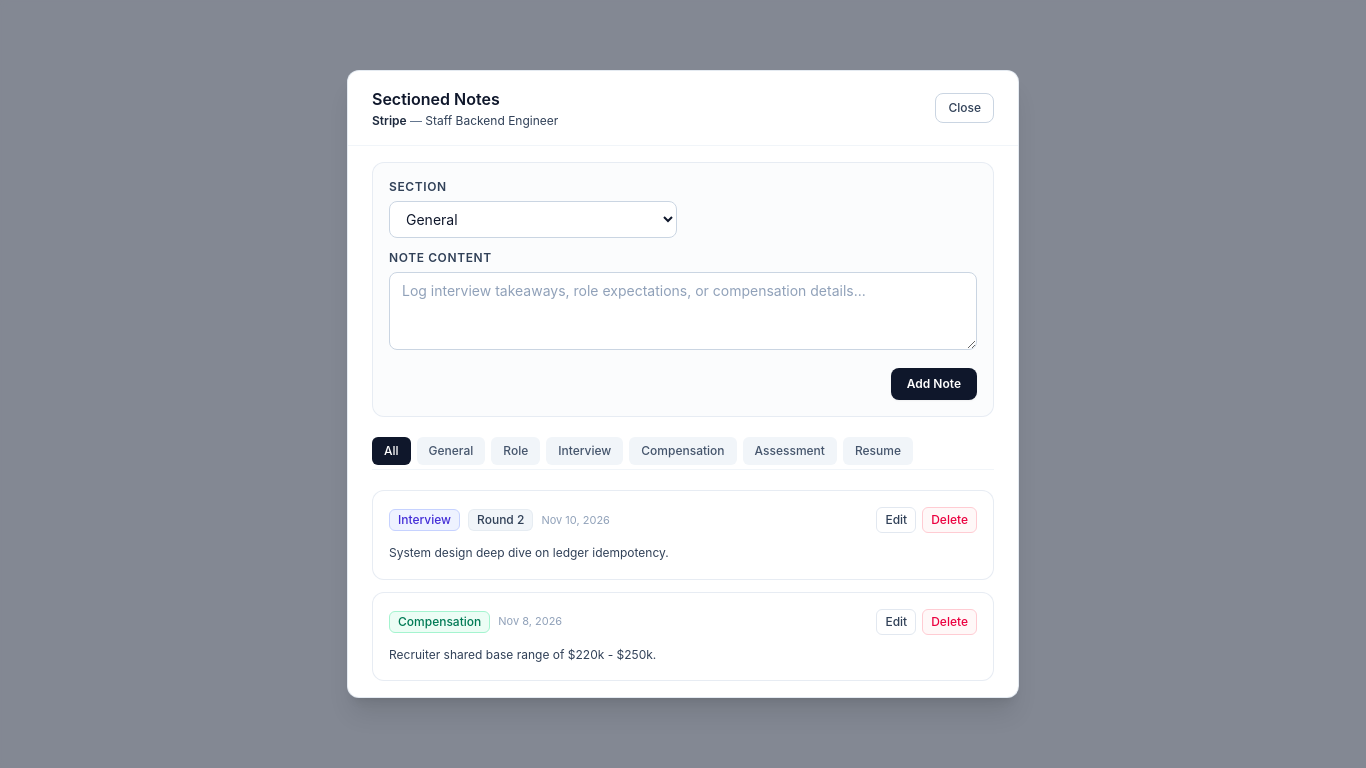
Scenario: JobNotesModal › filters displayed notes when clicking section filter tabs
The width and height of the screenshot is (1366, 768).
Check: the text "System design deep dive on ledger idempotency." is shown, box [389, 545, 669, 560]
Step 1. Click the button "Compensation" → click(683, 451), box [629, 437, 737, 465]
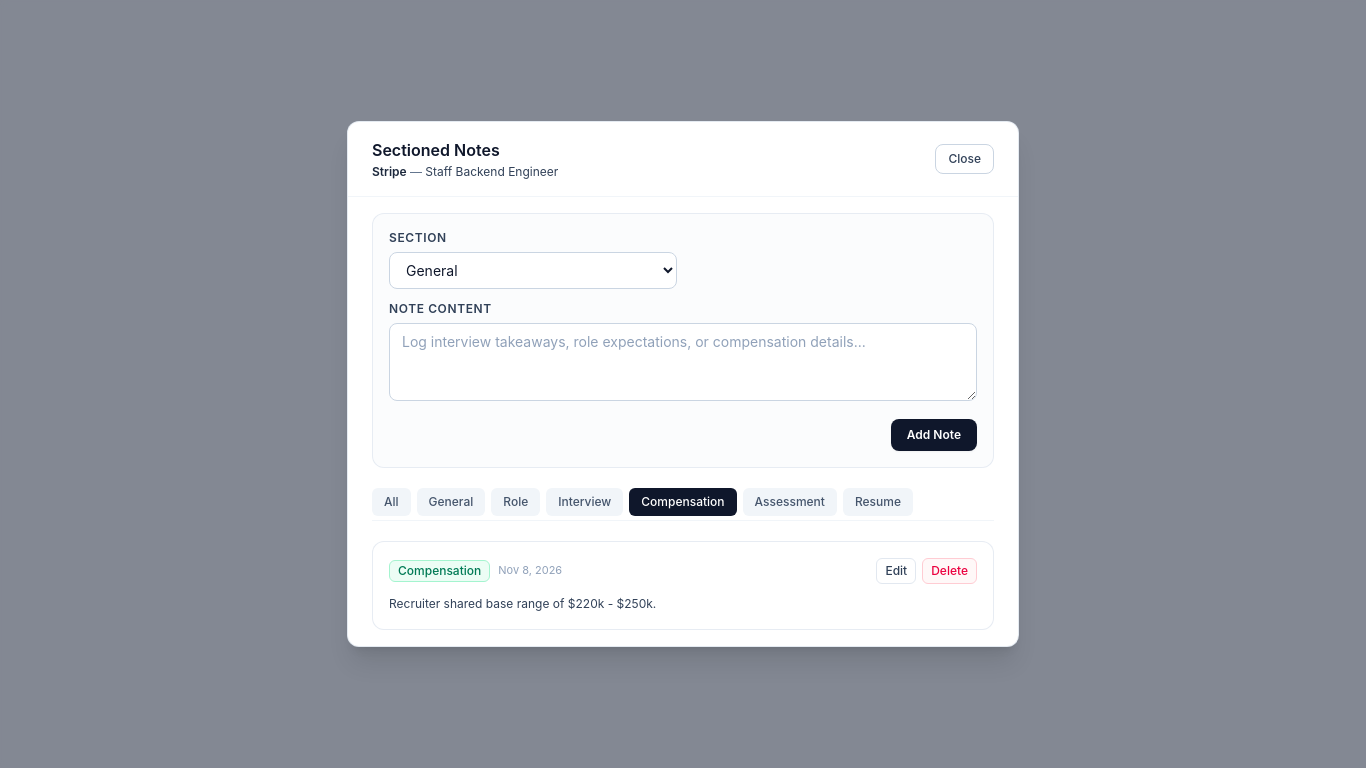
Check: the text "Recruiter shared base range of $220k - $250k." is shown, box [389, 596, 656, 611]
Check: the text "System design deep dive" is gone
Step 2. Click the button "All" → click(391, 502), box [372, 488, 411, 516]
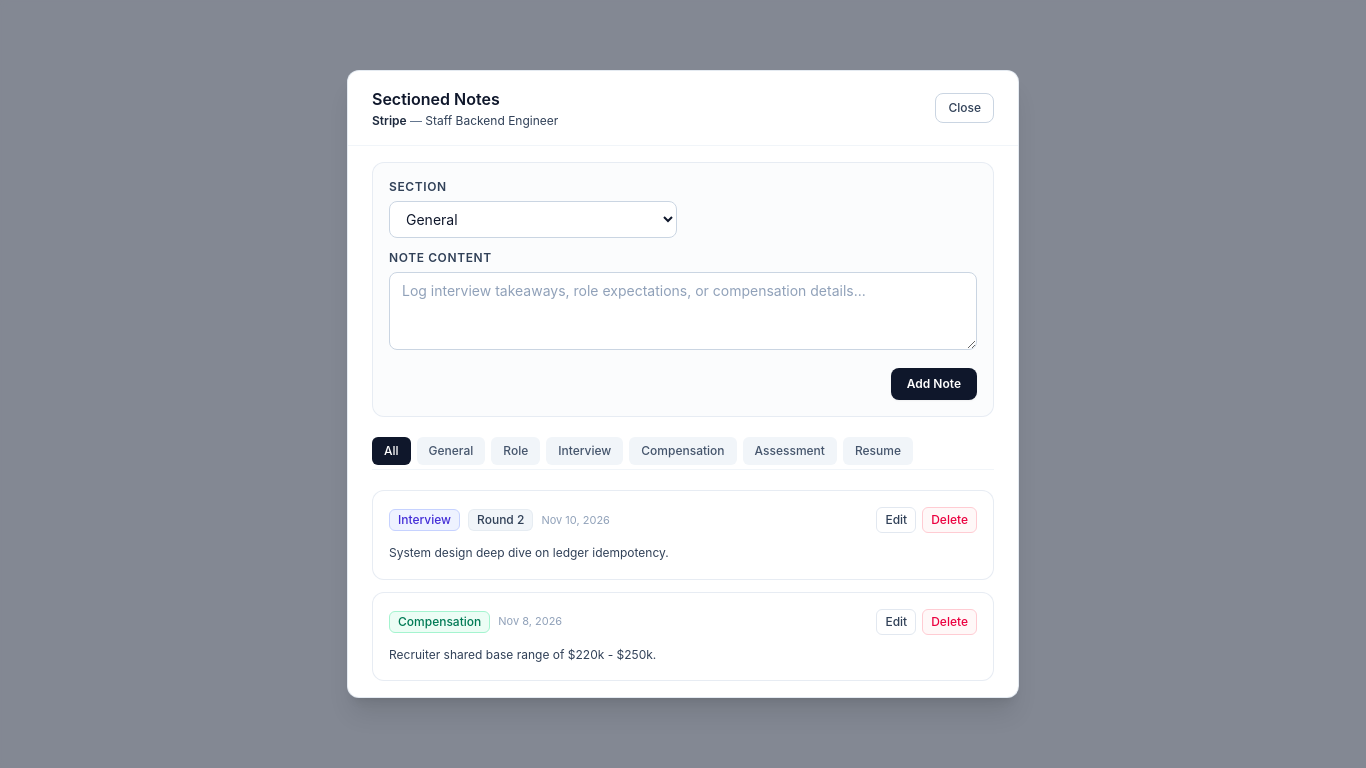
Check: the text "System design deep dive on ledger idempotency." is shown, box [389, 545, 669, 560]
